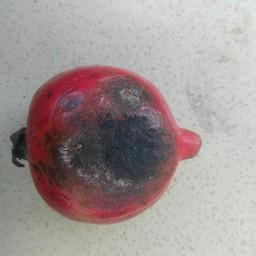Bad_pomegranate: (6, 61, 209, 228)
